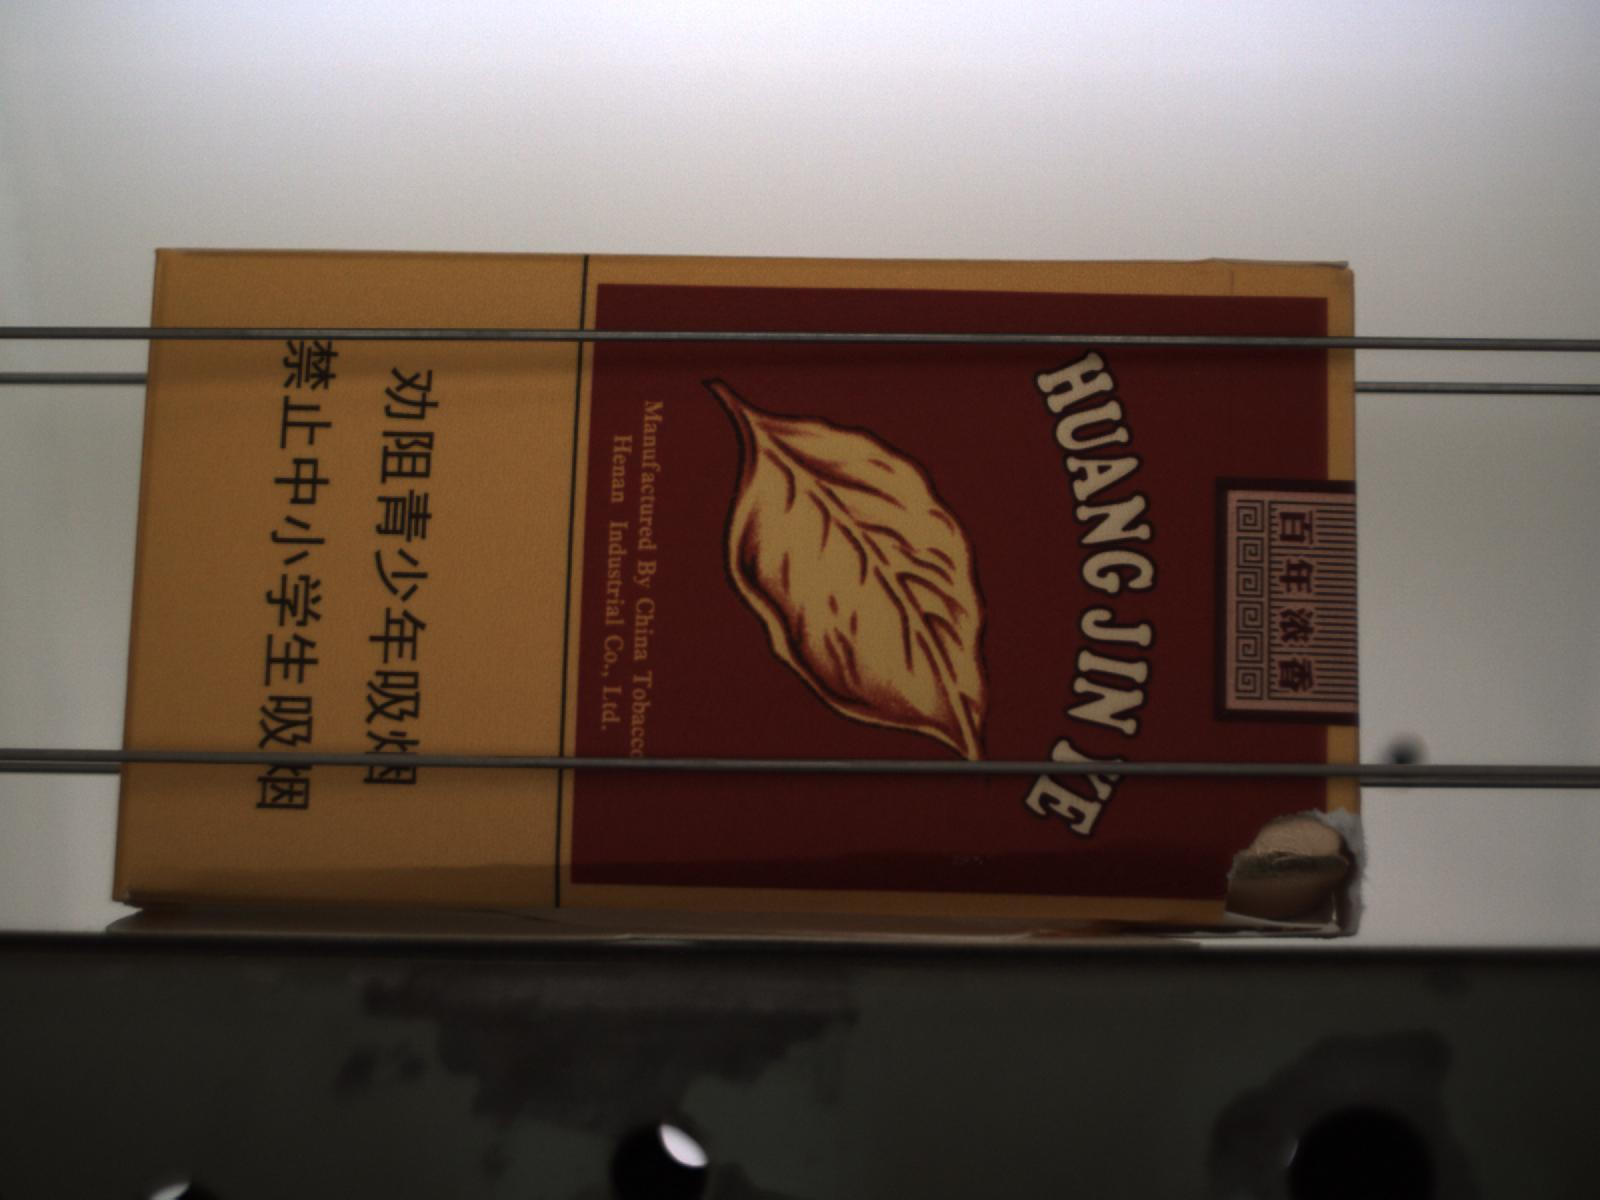boxDamage_back_heavy: (100, 798, 1369, 937)
